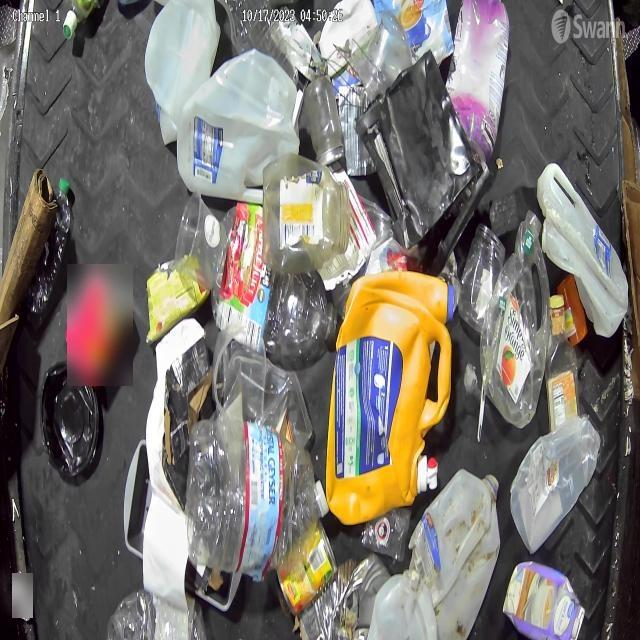milk_jug: (177, 51, 301, 202), (410, 468, 500, 622), (143, 1, 221, 138), (369, 570, 437, 640)
non_white_jug: (334, 267, 451, 488), (504, 561, 586, 639)
plastic_bottle: (216, 207, 331, 355), (236, 422, 328, 580), (26, 178, 73, 319), (106, 592, 208, 638)
